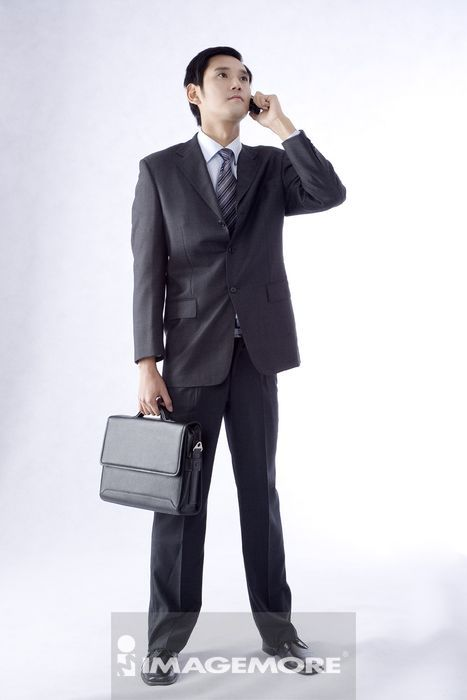talk: (215, 63, 280, 128)
